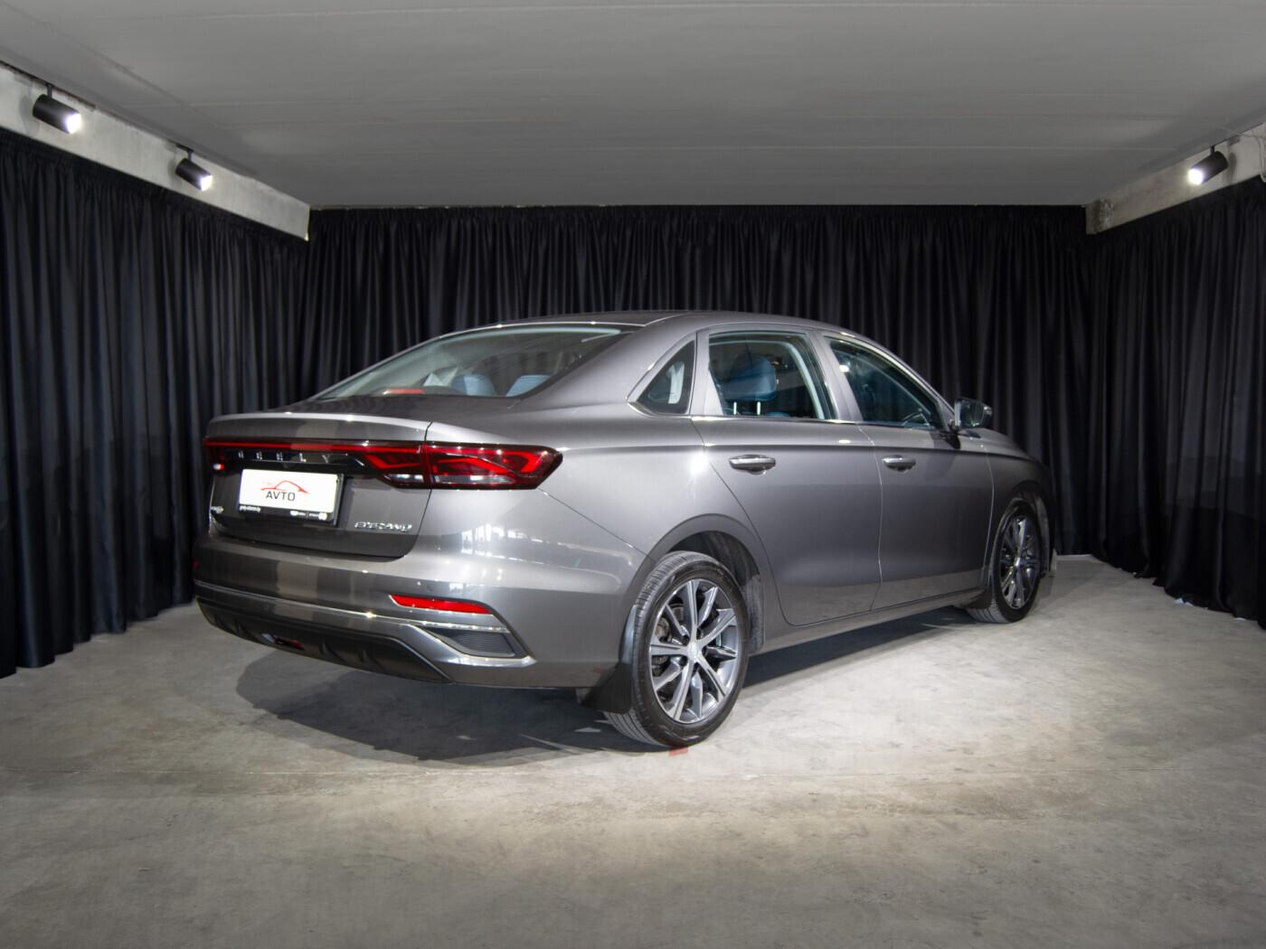Emgrand_2021: (189, 301, 1055, 755)
